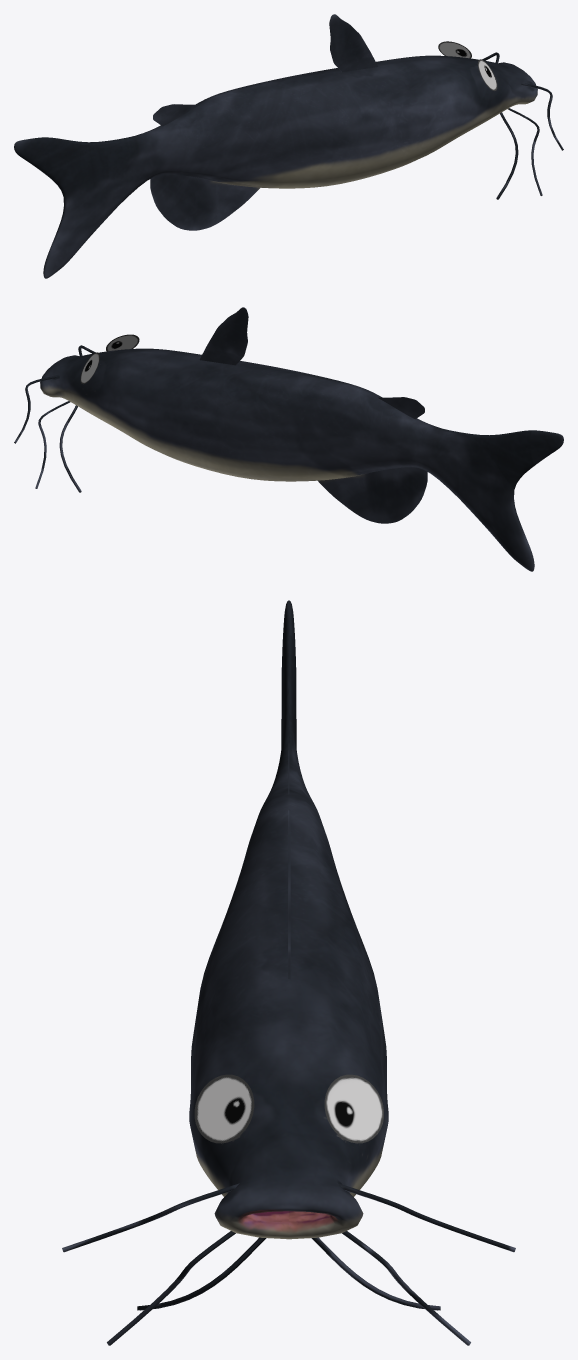
The model's file is Fih.fbx.
The picture shows the model from 3 angles, top to bottom: view 1: azimuth 30°, elevation 25°; view 2: azimuth 150°, elevation 25°; view 3: azimuth 270°, elevation 25°; orthographic projection. The views are drawn at different scales.
Parts seen in each view (by area): view 1: Fih; view 2: Fih; view 3: Fih.
Boxes of the visible parts, x1=… form: Fih: x1=14, y1=14, x2=563, y2=278; Fih: x1=14, y1=307, x2=563, y2=571; Fih: x1=62, y1=600, x2=515, y2=1345.
Size of the model in its own units: 1364 by 494 by 524.
